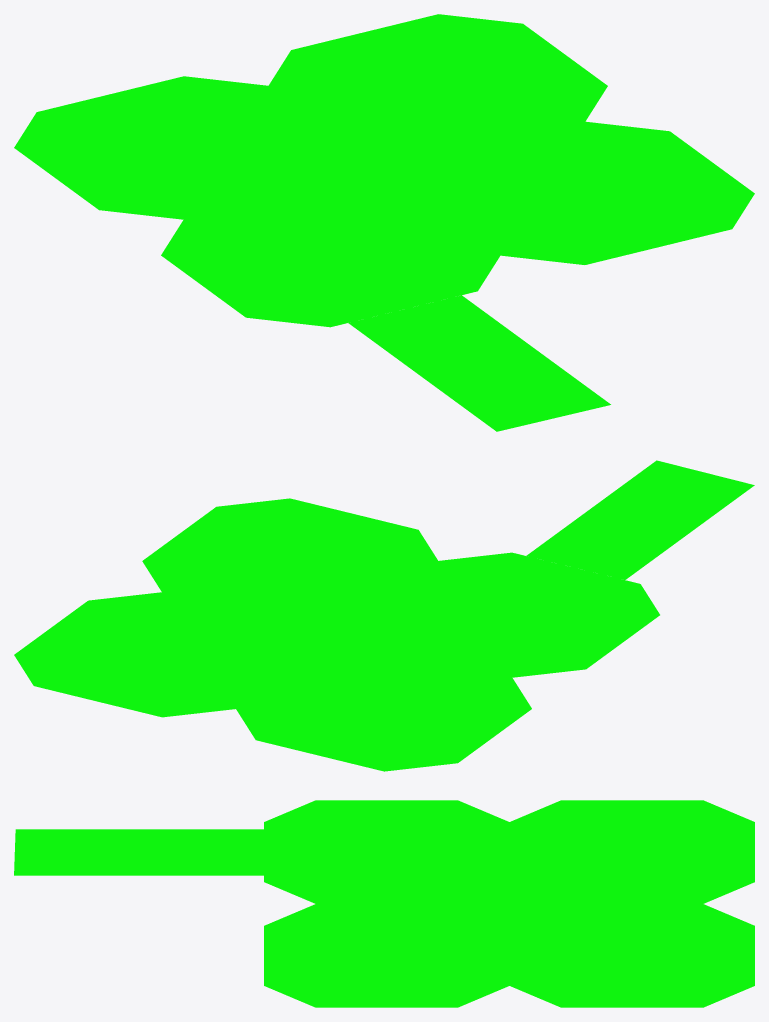
Rendered from s02a_na1-floor.glb.
3 renders of one model, top to bottom at view 1: azimuth 30°, elevation 25°; view 2: azimuth 150°, elevation 25°; view 3: azimuth 270°, elevation 25°, orthographic. The views are drawn at different scales.
Parts seen in each view (by area): view 1: collision_floor-colonly; view 2: collision_floor-colonly; view 3: collision_floor-colonly.
Boxes of the visible parts, x1=… form: collision_floor-colonly: x1=14, y1=14, x2=754, y2=431; collision_floor-colonly: x1=14, y1=460, x2=754, y2=771; collision_floor-colonly: x1=14, y1=800, x2=754, y2=1007.
Size of the model in its own units: 26.87 by 0 by 40.55.
